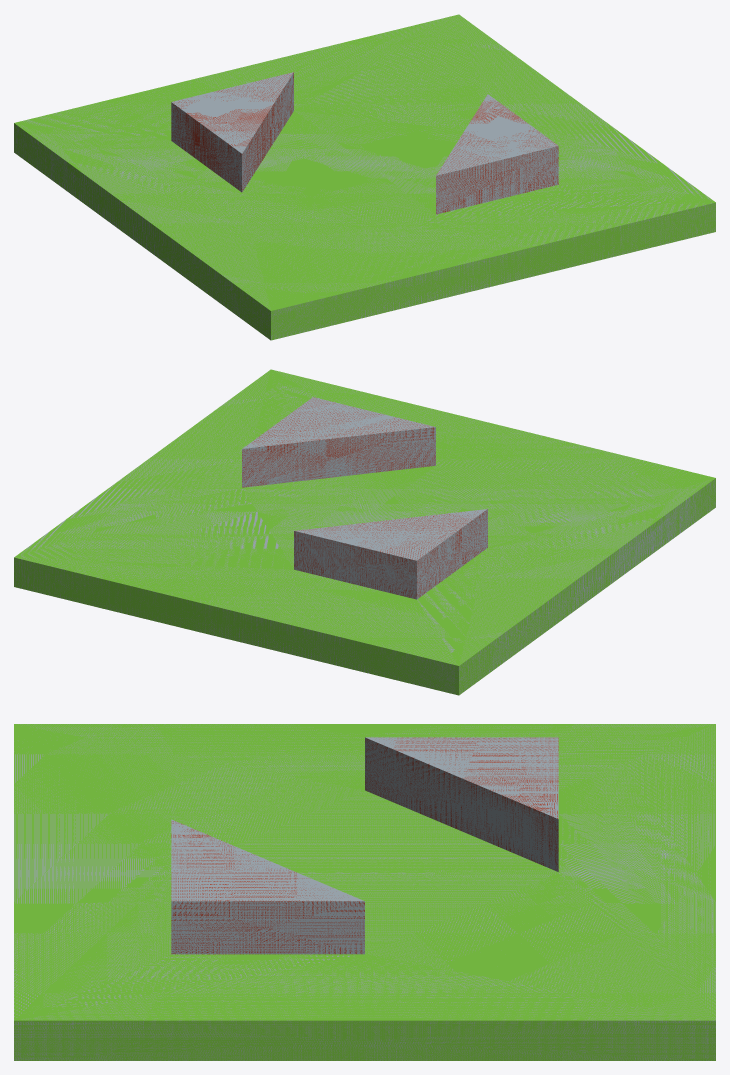
The model's file is Obstacle_triangle_01.obj.
3 renders of one model, top to bottom at view 1: azimuth 30°, elevation 25°; view 2: azimuth 150°, elevation 25°; view 3: azimuth 270°, elevation 25°, orthographic. The views are drawn at different scales.
Parts seen in each view (by area): view 1: Mesh1 Obstacle_triangle Model; view 2: Mesh1 Obstacle_triangle Model; view 3: Mesh1 Obstacle_triangle Model.
Boxes of the visible parts, x1,y1,x2,y2 form: Mesh1 Obstacle_triangle Model: [14, 14, 715, 340]; Mesh1 Obstacle_triangle Model: [14, 369, 715, 695]; Mesh1 Obstacle_triangle Model: [14, 724, 715, 1060].
Bounding box in the file's own units: 3 × 0.44 × 3.
